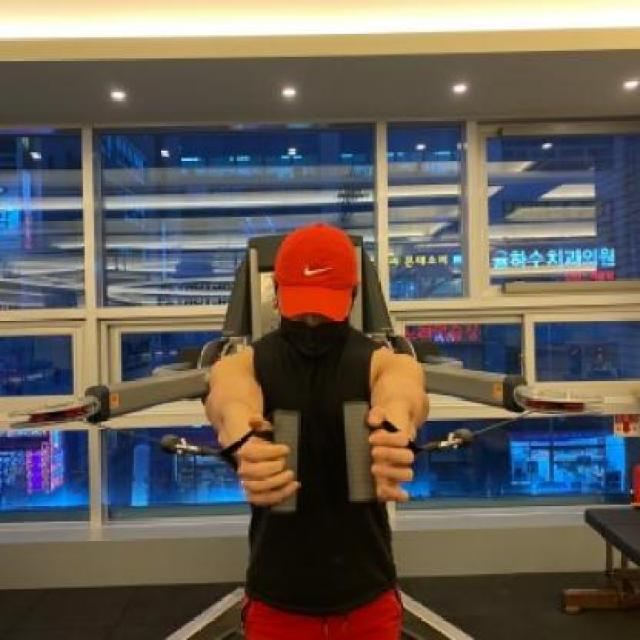chest fly machine: (8, 175, 626, 640)
